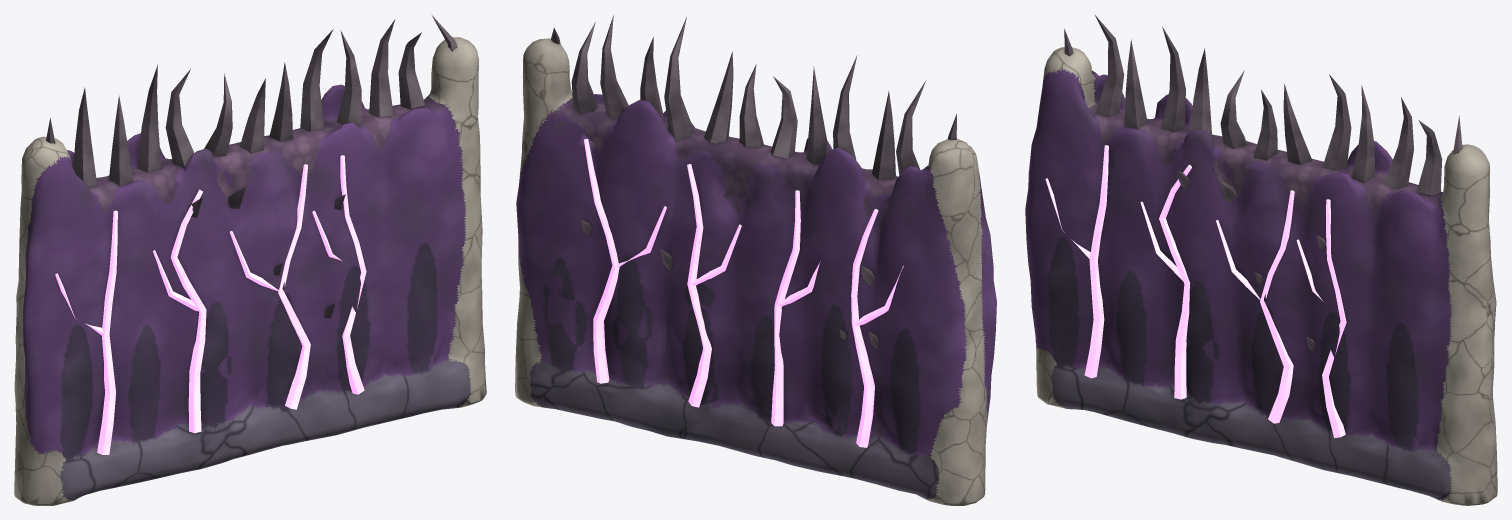
The model's file is muralla_espinas.fbx.
3 views of the same model, side by side, from view 1: azimuth 30°, elevation 25°; view 2: azimuth 150°, elevation 25°; view 3: azimuth 330°, elevation 25° (orthographic). The views are drawn at different scales.
Parts seen in each view (by area): view 1: muralla, venas_neon; view 2: muralla, venas_neon; view 3: muralla, venas_neon.
Boxes of the visible parts, x1,y1,x2,y2 form: muralla: (14,15,486,505); venas_neon: (55,155,366,454); muralla: (515,15,996,505); venas_neon: (584,139,903,447); muralla: (1025,15,1497,505); venas_neon: (1045,145,1346,438).
Size of the model in its own units: 6 by 5 by 1.
Materials: 1 (1 with a texture image).
